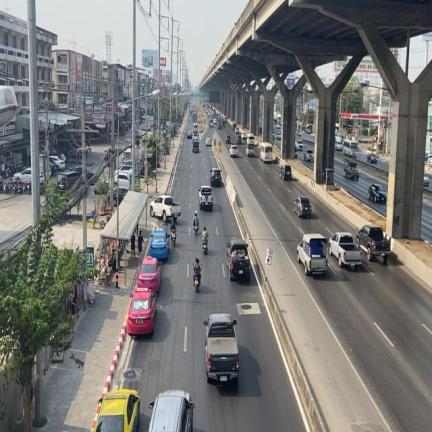car: (294, 196, 311, 218), (368, 184, 386, 202), (210, 168, 221, 186), (279, 164, 290, 180)
human: (138, 230, 143, 251), (131, 233, 134, 256)
motorbike: (13, 179, 22, 193), (194, 273, 200, 292), (3, 179, 11, 193), (171, 229, 176, 247), (202, 241, 207, 254), (194, 224, 198, 234)
pickup: (204, 314, 238, 382), (357, 225, 389, 263), (329, 232, 360, 269), (227, 238, 250, 281), (150, 196, 180, 221), (199, 186, 212, 210)
taxi: (95, 388, 139, 431), (126, 288, 156, 335), (137, 256, 161, 292), (149, 230, 169, 259)
truck: (297, 234, 327, 274)
